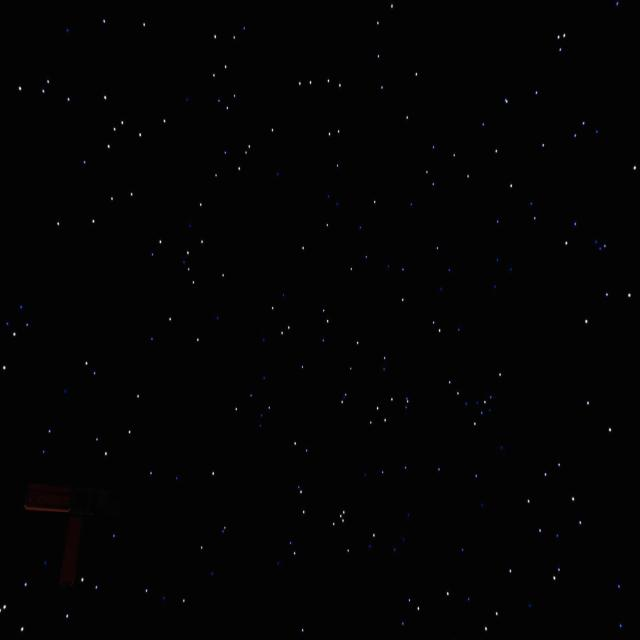satellite: (10, 448, 92, 585)
